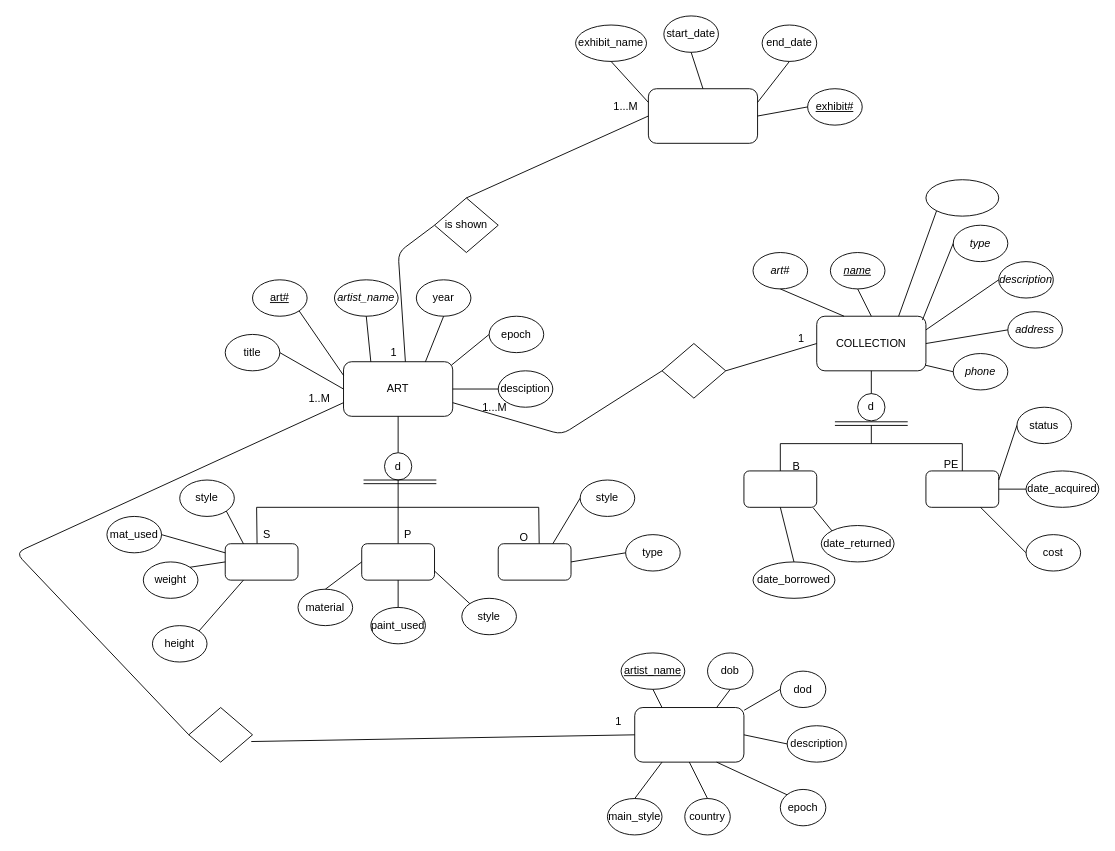
Some shapes in this 1115 by 851 pixel diagram are drawn without their labels. Here are the shapes that lost their labels. From the top down, the centre of each, then its label:
At (702,115): "EXHIBITION".
At (962,197): "contact_name".
At (693,370): "belongs".
At (780,488): "BORROWED".
At (962,488): "PERMANENT".
At (261,561): "SCULPTURE".
At (398,561): "PAINTING".
At (534,561): "OTHER".
At (220,734): "creates".
At (689,734): "ARTIST".
